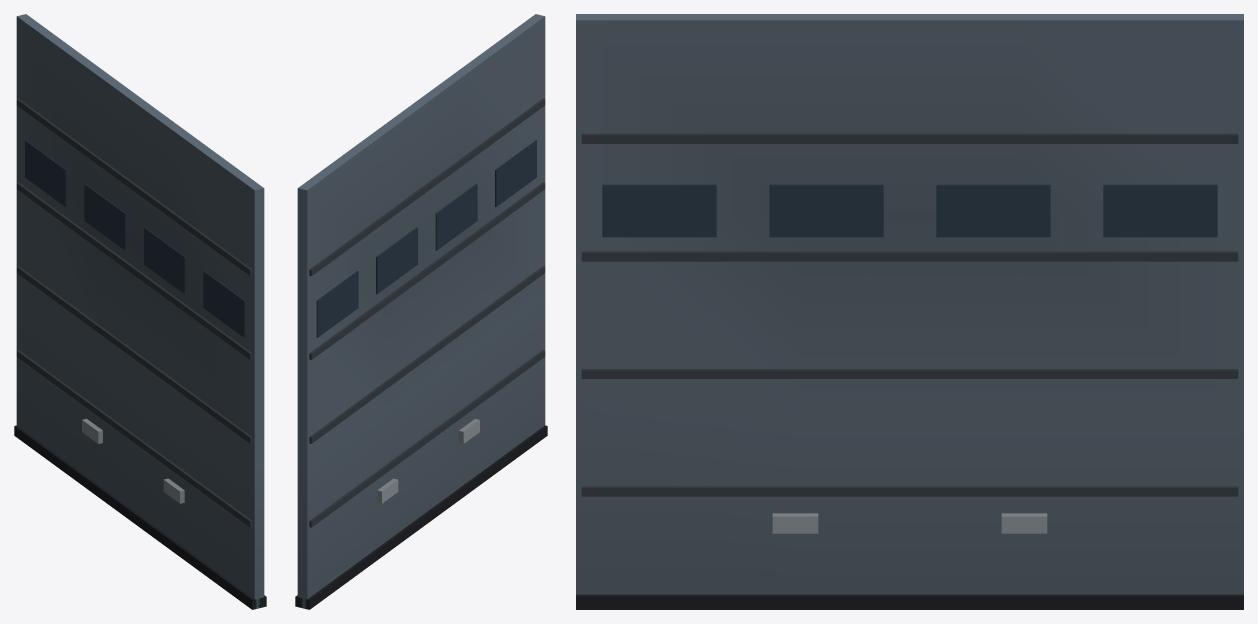
Rendered from puerta-muelle-vLJmcQFZ.glb.
3 renders of one model, left to right at view 1: azimuth 30°, elevation 25°; view 2: azimuth 150°, elevation 25°; view 3: azimuth 270°, elevation 25°, orthographic. The views are drawn at different scales.
Visible parts, largest first — view 1: pieza, pieza.009, pieza.003, pieza.004, pieza.002, pieza.001, pieza.006, pieza.008, pieza.007, pieza.005, pieza.011; view 2: pieza, pieza.009, pieza.003, pieza.004, pieza.002, pieza.001, pieza.007, pieza.005, pieza.006, pieza.008, pieza.010; view 3: pieza, pieza.009, pieza.002, pieza.004, pieza.001, pieza.003, pieza.005, pieza.006, pieza.007, pieza.008, pieza.010, pieza.011.
Part boxes in pixels (bbox=[...]): pieza: bbox=[16, 14, 264, 608]; pieza.009: bbox=[14, 425, 266, 609]; pieza.003: bbox=[16, 266, 252, 443]; pieza.004: bbox=[16, 350, 252, 527]; pieza.002: bbox=[16, 182, 252, 359]; pieza.001: bbox=[16, 98, 252, 276]; pieza.006: bbox=[84, 184, 126, 250]; pieza.008: bbox=[203, 271, 245, 337]; pieza.007: bbox=[144, 227, 185, 294]; pieza.005: bbox=[25, 140, 66, 206]; pieza.011: bbox=[163, 478, 184, 503]; pieza: bbox=[297, 14, 545, 608]; pieza.009: bbox=[295, 425, 547, 609]; pieza.003: bbox=[309, 266, 545, 443]; pieza.004: bbox=[309, 350, 545, 527]; pieza.002: bbox=[309, 182, 545, 359]; pieza.001: bbox=[309, 98, 545, 276]; pieza.007: bbox=[435, 184, 477, 250]; pieza.005: bbox=[316, 271, 358, 337]; pieza.006: bbox=[376, 227, 417, 294]; pieza.008: bbox=[495, 140, 536, 206]; pieza.010: bbox=[377, 478, 398, 503]; pieza: bbox=[576, 14, 1243, 594]; pieza.009: bbox=[576, 594, 1243, 609]; pieza.002: bbox=[581, 251, 1238, 261]; pieza.004: bbox=[581, 486, 1238, 496]; pieza.001: bbox=[581, 133, 1238, 143]; pieza.003: bbox=[581, 369, 1238, 378]; pieza.005: bbox=[1103, 184, 1217, 237]; pieza.006: bbox=[936, 184, 1050, 237]; pieza.007: bbox=[769, 184, 883, 237]; pieza.008: bbox=[602, 184, 716, 237]; pieza.010: bbox=[1001, 513, 1047, 533]; pieza.011: bbox=[772, 513, 818, 533].
Size of the model in its own units: 0.16 by 3.4 by 3.5.
